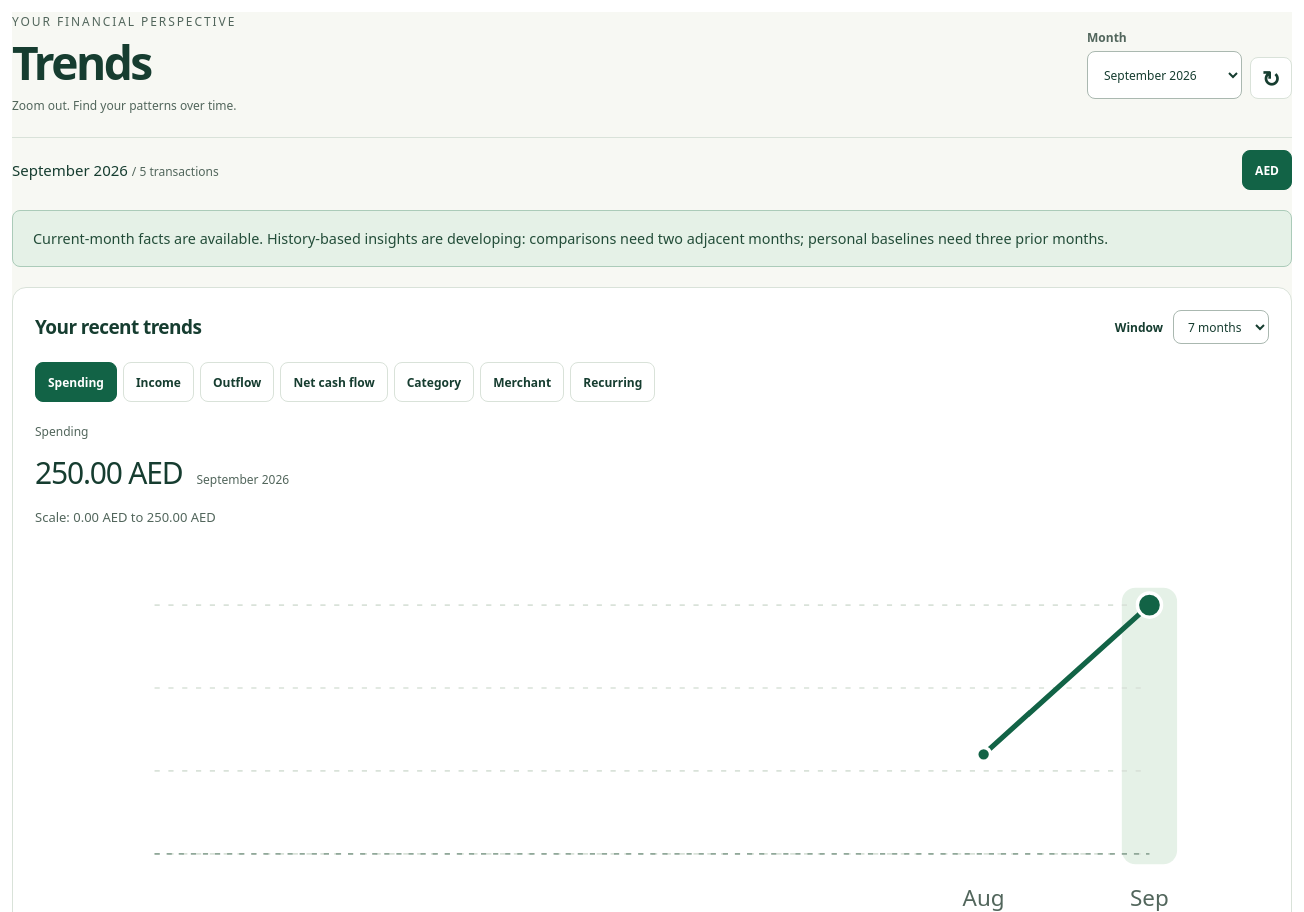
Test: explores signed net cash flow, bounded historical categories and merchant gaps
The width and height of the screenshot is (1304, 912).
Expected: the heading "Your recent trends" is shown, [35, 315, 201, 340]
Click the button "Net cash flow" at [334, 382], box [280, 362, 388, 402]
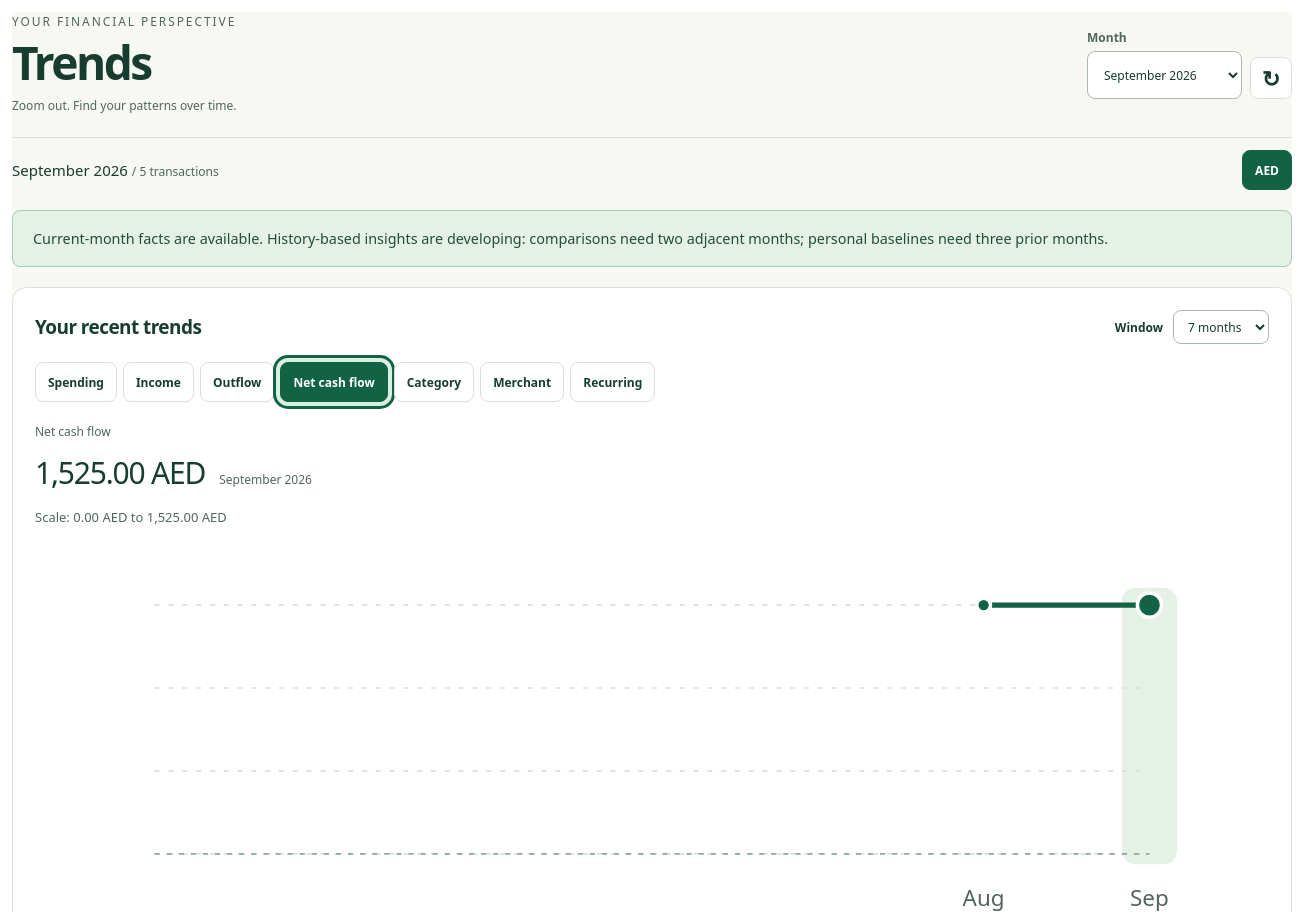
Click the button "Category" at [434, 382], box [394, 362, 474, 402]
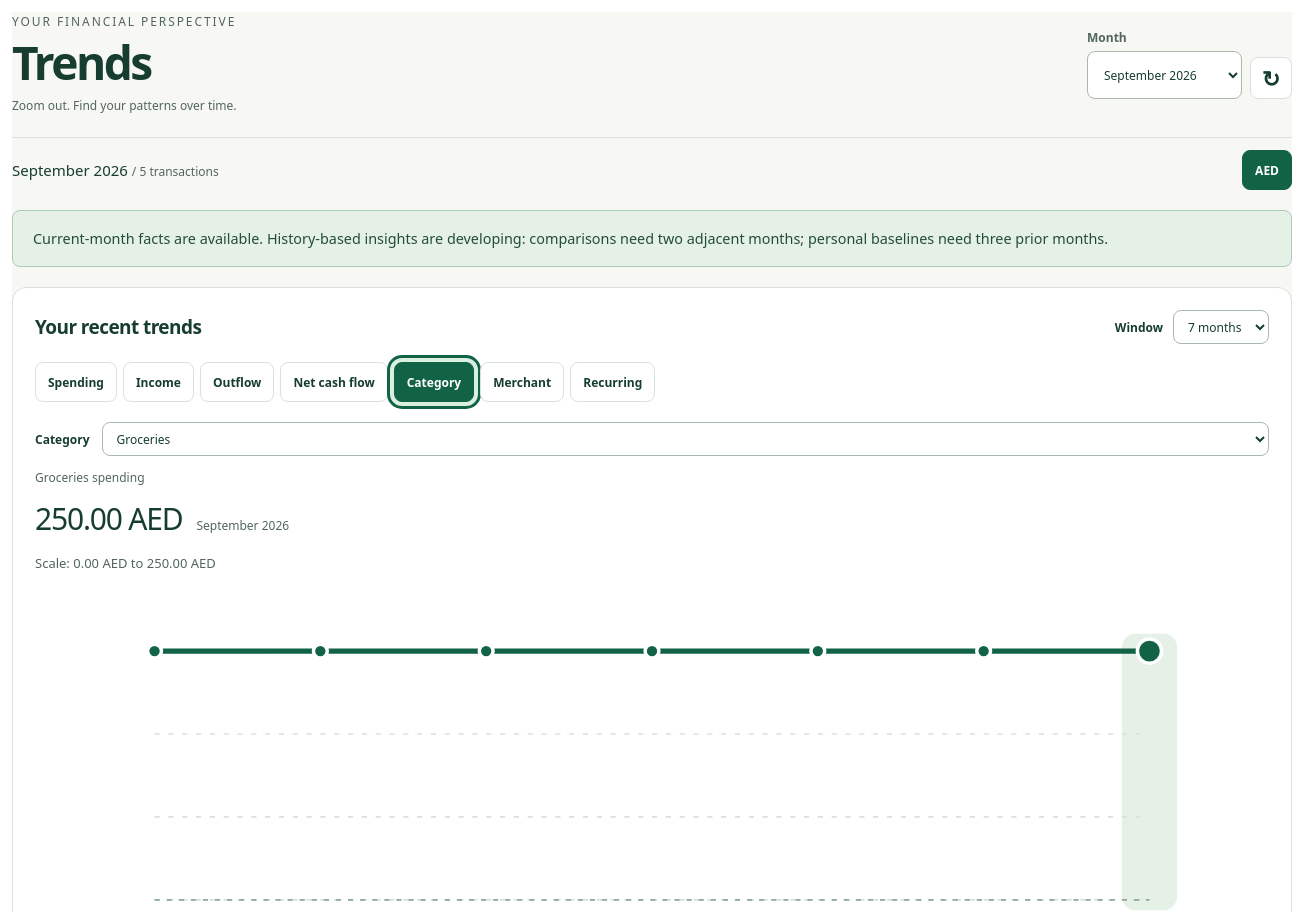
Expected: the dropdown labelled "Category" shows "Groceries", [102, 422, 1269, 456]
Click the button "Merchant" at [522, 382], box [480, 362, 564, 402]
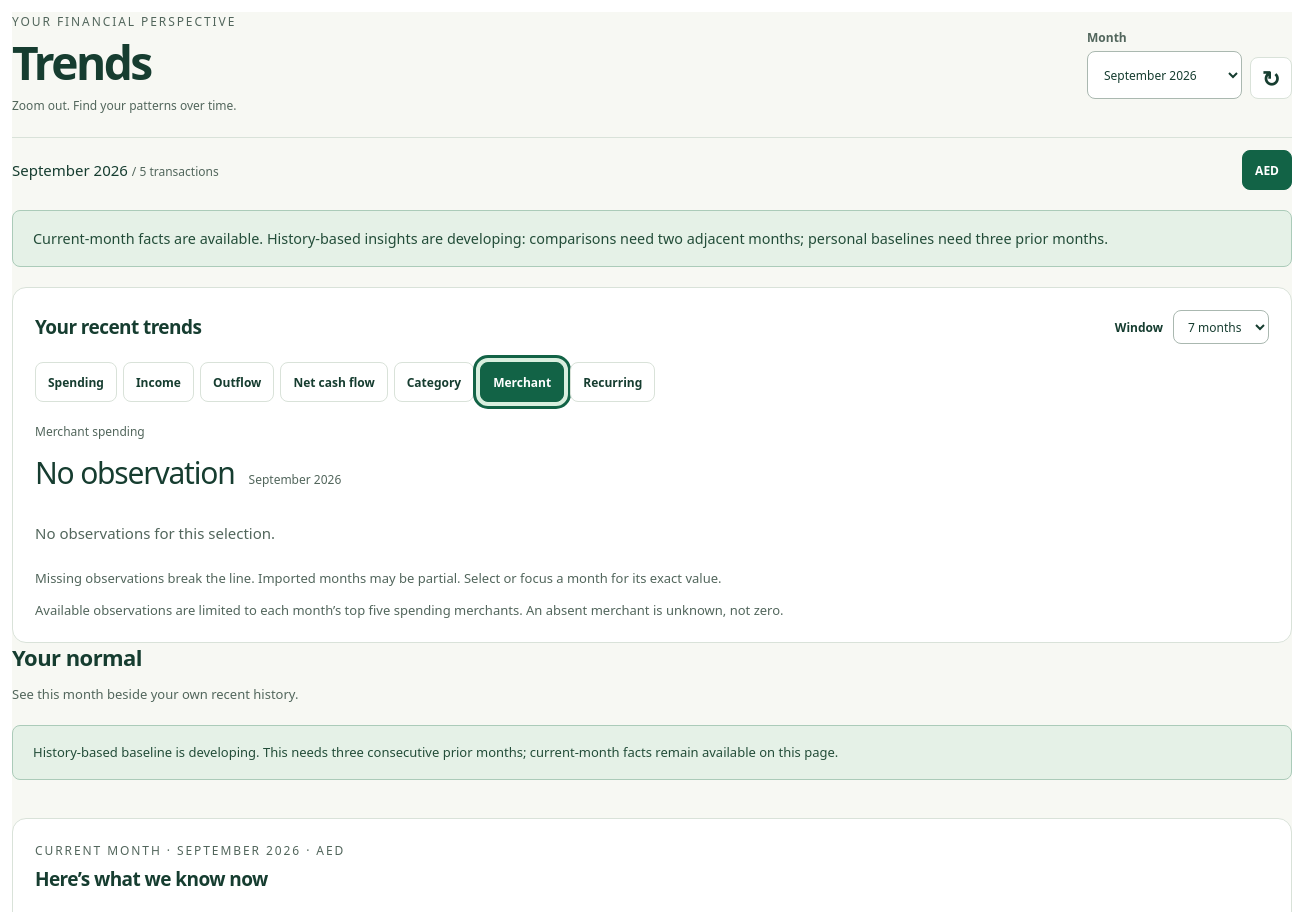
Expected: the text "top five spending merchants" is shown, [35, 601, 784, 619]
Expected: the text "No observations for this selection." is shown, [35, 523, 275, 543]
